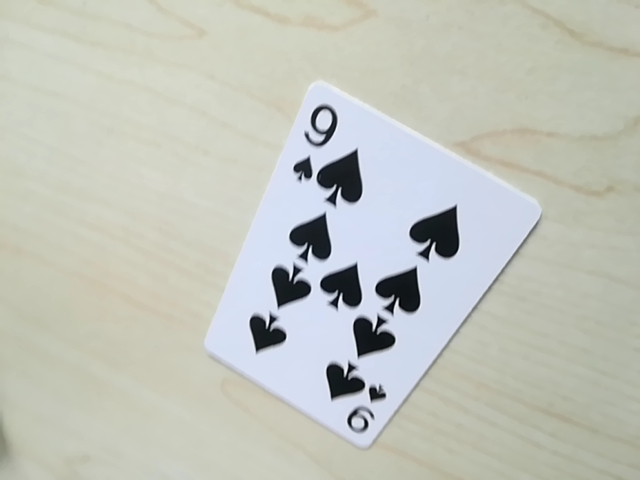ht 9: (283, 90, 348, 195), (331, 391, 389, 442)
